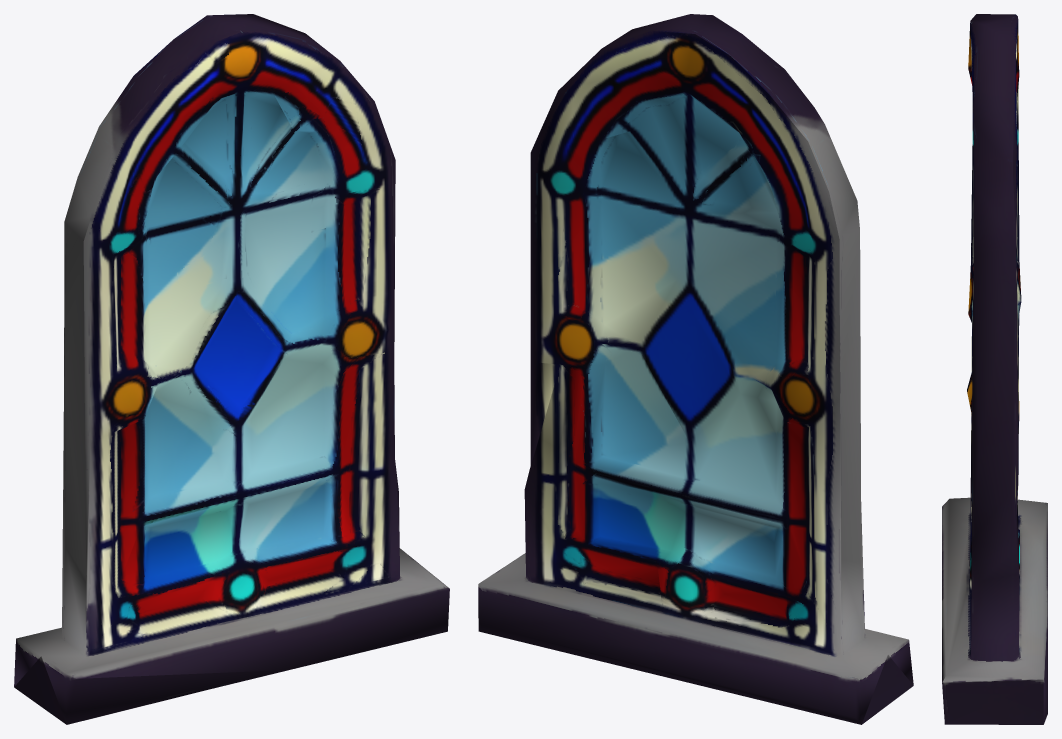
File: stained-glass-window.glb
3 views of the same model, side by side, from view 1: azimuth 30°, elevation 25°; view 2: azimuth 150°, elevation 25°; view 3: azimuth 270°, elevation 25° (orthographic). The views are drawn at different scales.
Parts seen in each view (by area): view 1: geometry_0.001; view 2: geometry_0.001; view 3: geometry_0.001.
Part boxes in pixels (bbox=[...]): geometry_0.001: bbox=[14, 14, 449, 724]; geometry_0.001: bbox=[478, 14, 913, 724]; geometry_0.001: bbox=[942, 14, 1047, 724].
Bounding box in the file's own units: 0.6257 × 0.998 × 0.1556.
1 material, 1 textured.
